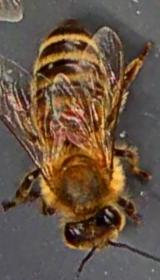varroa_mite: (60, 103, 86, 123)
